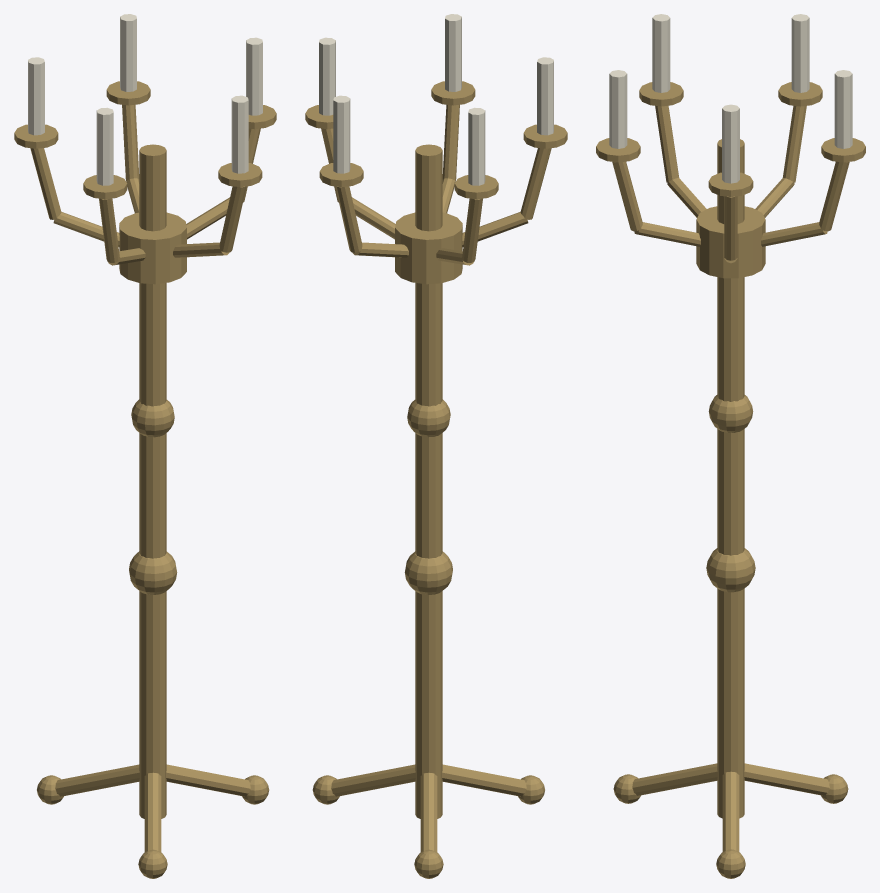
3 views of the same model, side by side, from view 1: azimuth 30°, elevation 25°; view 2: azimuth 150°, elevation 25°; view 3: azimuth 270°, elevation 25° (orthographic).
Visible parts, largest first — view 1: candelabrum; view 2: candelabrum; view 3: candelabrum.
Boxes of the visible parts, x1=… form: candelabrum: x1=14, y1=14, x2=276, y2=878; candelabrum: x1=305, y1=14, x2=567, y2=878; candelabrum: x1=596, y1=14, x2=865, y2=878.
Bounding box in the file's own units: 0.5242 × 1.72 × 0.5465.
